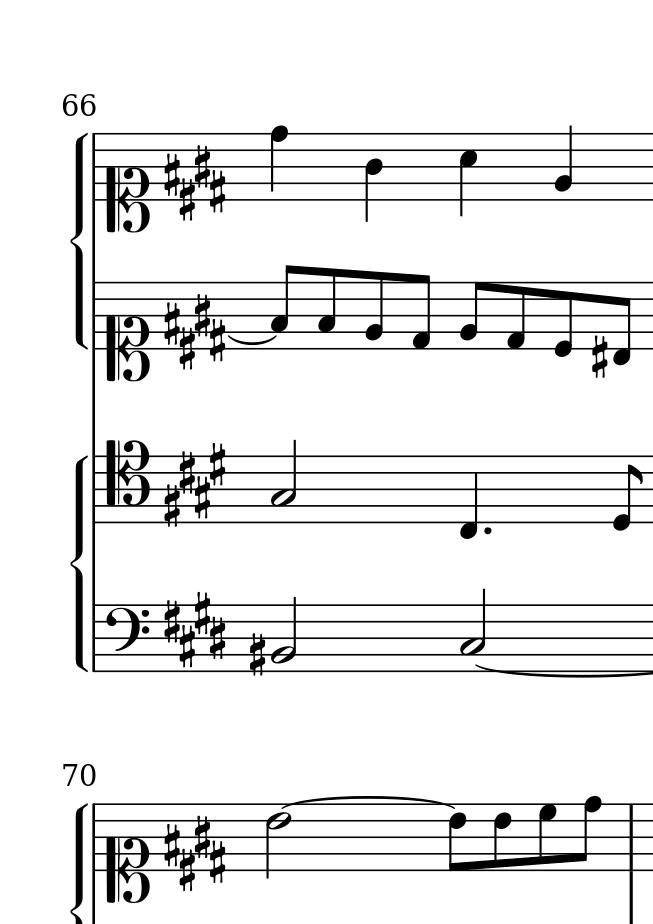0: (80, 761, 97, 788)
2_2: (270, 595, 297, 673)
2_3: (270, 440, 298, 526), (459, 588, 487, 670)
2_6: (264, 802, 290, 879)
4_2: (553, 124, 575, 202)
4_4: (363, 132, 384, 225)
4_5: (458, 131, 479, 222)
4_8: (269, 123, 289, 203)
6: (79, 92, 97, 118), (62, 91, 78, 117)
7: (62, 759, 78, 788)
8_-1: (456, 452, 480, 542), (611, 281, 633, 367)
8_0: (611, 455, 643, 532), (551, 280, 575, 359)
8_1: (409, 272, 433, 352), (504, 279, 527, 352)
8_2: (457, 280, 486, 351), (363, 270, 384, 352)
8_3: (268, 264, 298, 351), (316, 267, 337, 352)
8_6: (448, 801, 469, 873), (492, 801, 513, 873)
8_7: (536, 802, 558, 872)
8_8: (574, 795, 602, 872)
Brace: (70, 455, 89, 673), (70, 130, 88, 350)
E_S: (161, 442, 228, 527), (162, 590, 228, 670), (160, 814, 226, 893), (160, 143, 226, 221), (161, 292, 226, 371)
Fclef: (103, 601, 149, 673)
Sharp: (248, 632, 267, 678), (591, 333, 609, 381)
Single_barline: (88, 455, 103, 525), (87, 283, 103, 348), (624, 803, 639, 870), (87, 134, 101, 200), (88, 605, 102, 671), (88, 805, 102, 869)
Slur: (281, 795, 457, 810), (223, 335, 281, 345)
Soprano_Cclef: (105, 801, 150, 904), (105, 131, 150, 232), (105, 279, 150, 380)
Tensor_Cclef: (103, 439, 151, 522)
dot: (482, 524, 493, 535)
